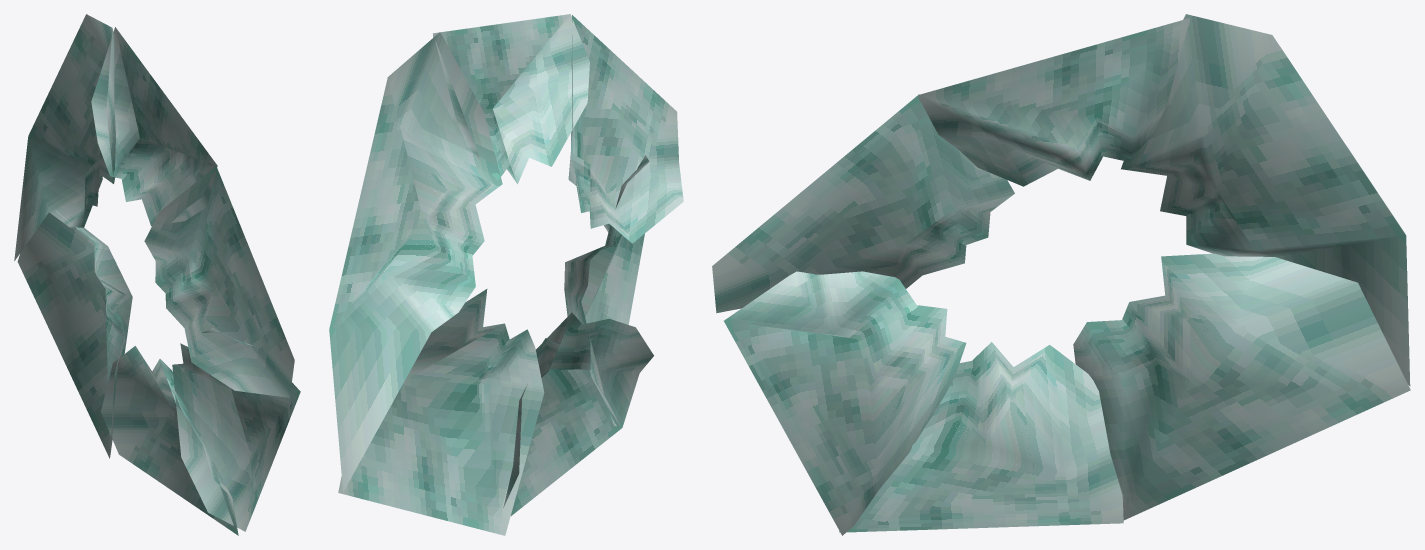
File: level1.obj
3 views of the same model, side by side, from view 1: azimuth 30°, elevation 25°; view 2: azimuth 150°, elevation 25°; view 3: azimuth 270°, elevation 25° (orthographic). The views are drawn at different scales.
Parts seen in each view (by area): view 1: level1; view 2: level1; view 3: level1.
Boxes of the visible parts, left/top/right/bottom form: level1: left=14, top=14, right=300, bottom=535; level1: left=329, top=14, right=683, bottom=535; level1: left=712, top=14, right=1410, bottom=535.
Size of the model in its own units: 389 by 2190 by 2647.
Materials: 1 (1 with a texture image).
